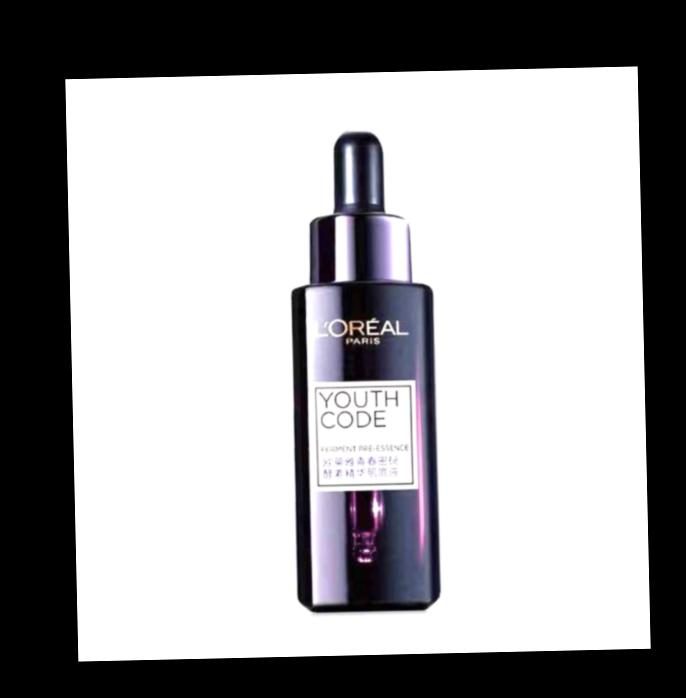cosmetic: (289, 129, 437, 612)
